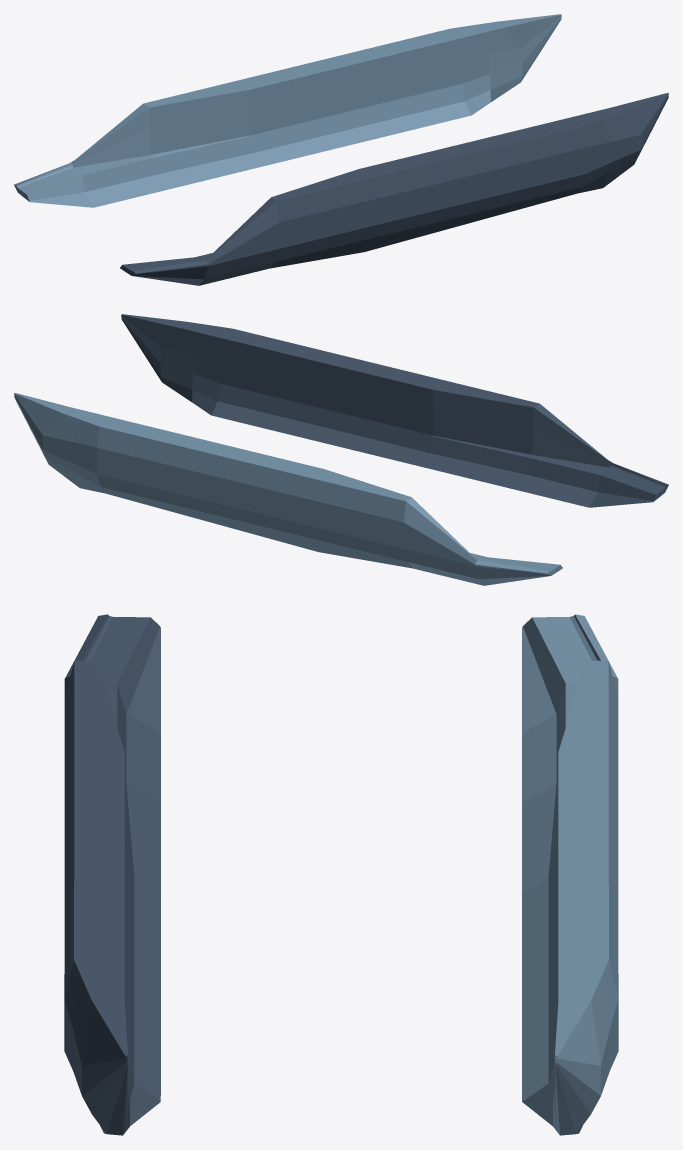
3 views of the same model, one above another, from view 1: azimuth 30°, elevation 25°; view 2: azimuth 150°, elevation 25°; view 3: azimuth 270°, elevation 25° (orthographic). The views are drawn at different scales.
Visible parts, largest first — view 1: 立方体.024, 立方体.015; view 2: 立方体.015, 立方体.024; view 3: 立方体.024, 立方体.015.
Part boxes in pixels (box(x1,y1,x2,y2)): 立方体.024: box(14, 14, 561, 207); 立方体.015: box(120, 93, 668, 285); 立方体.015: box(121, 314, 668, 507); 立方体.024: box(14, 393, 562, 585); 立方体.024: box(522, 614, 618, 1135); 立方体.015: box(64, 614, 160, 1135).
Bounding box in the file's own units: 8.26 × 1.15 × 3.67.
